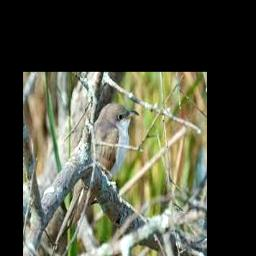Cuckoo: (60, 103, 140, 234)
